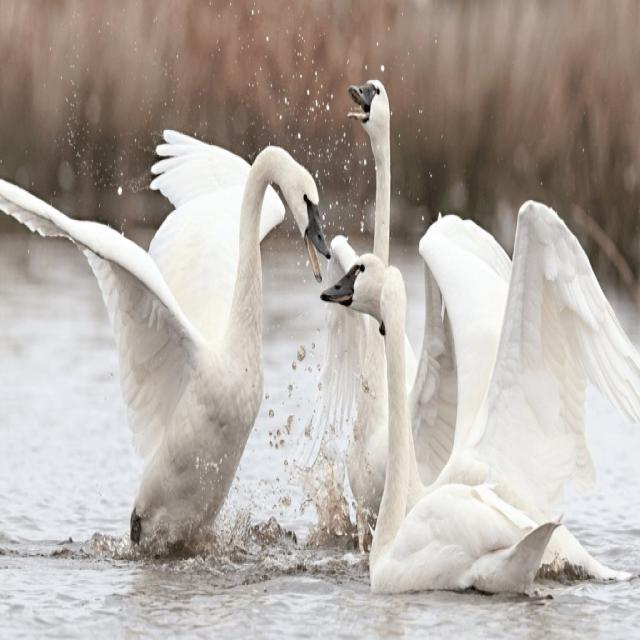swan: (0, 130, 330, 539), (370, 201, 639, 592)
